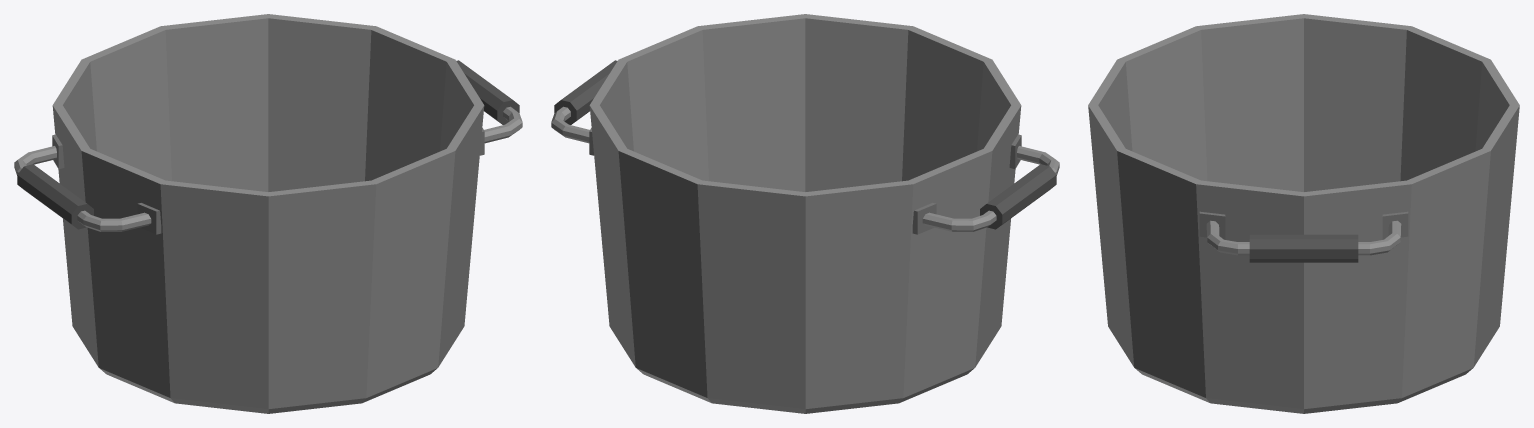
Rendered from Pan_04_C1.fbx.
The picture shows the model from 3 angles, left to right: view 1: azimuth 30°, elevation 25°; view 2: azimuth 150°, elevation 25°; view 3: azimuth 270°, elevation 25°; orthographic projection.
Parts seen in each view (by area): view 1: Pan_04_C1; view 2: Pan_04_C1; view 3: Pan_04_C1.
Part boxes in pixels (x1,y1,x2,y2): Pan_04_C1: (14, 14, 522, 413); Pan_04_C1: (551, 14, 1059, 413); Pan_04_C1: (1088, 14, 1519, 413).
Size of the model in its own units: 22 by 10.78 by 18.36.
